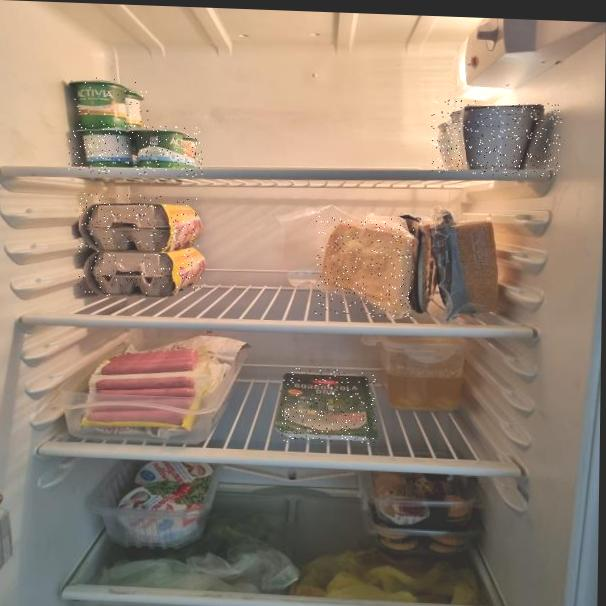cheese: (315, 216, 414, 318), (280, 367, 378, 445)
eggs: (78, 241, 204, 300), (79, 194, 198, 256)
yoghurt: (430, 99, 562, 178), (68, 123, 203, 177), (72, 77, 149, 127)
